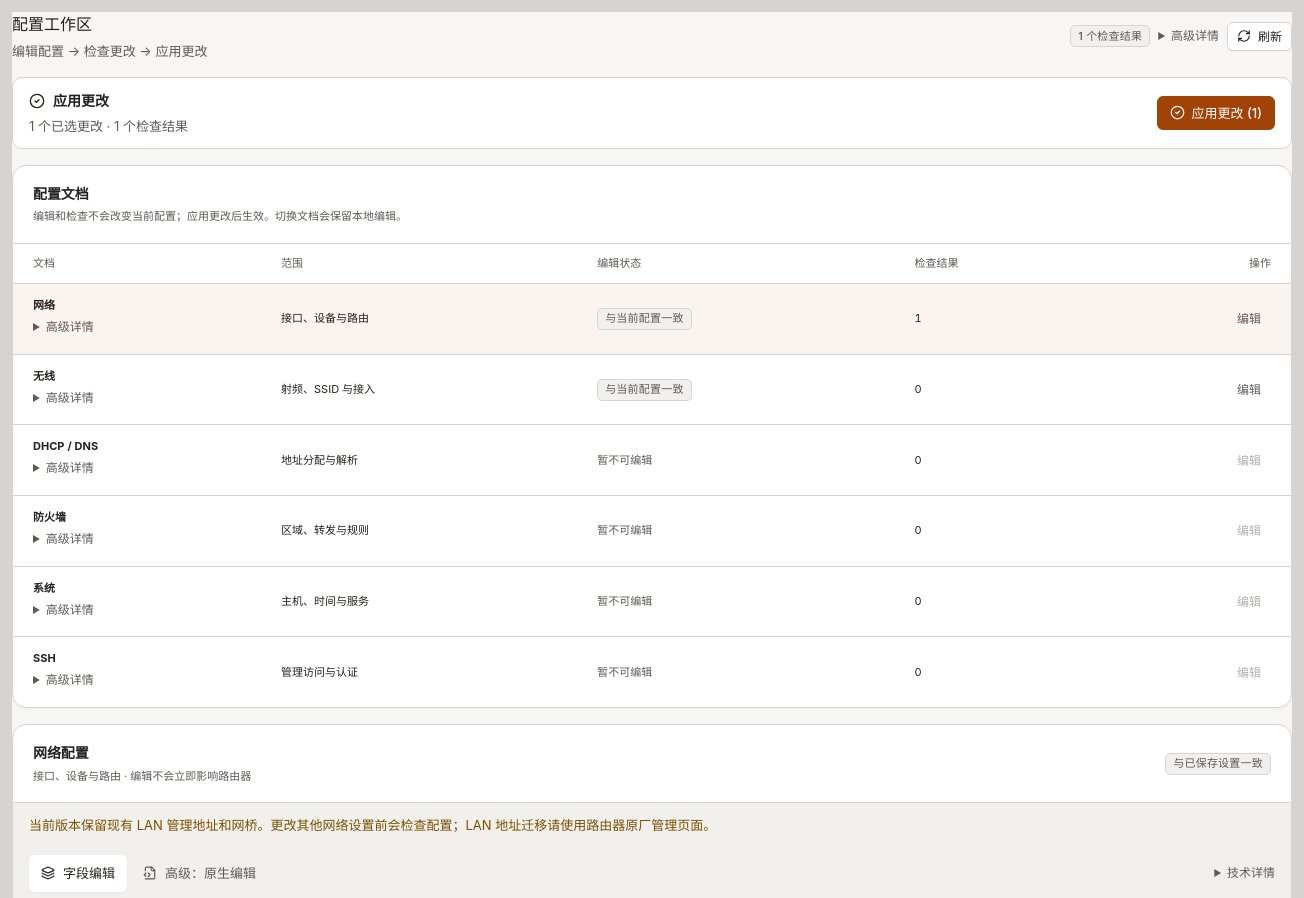
FullControl configuration › commits a low-risk selected draft directly with no confirmation dialog
Click the button with aria-label "应用已选更改 (1)": {"x": 1216, "y": 113} x1=1156 y1=96 x2=1275 y2=130
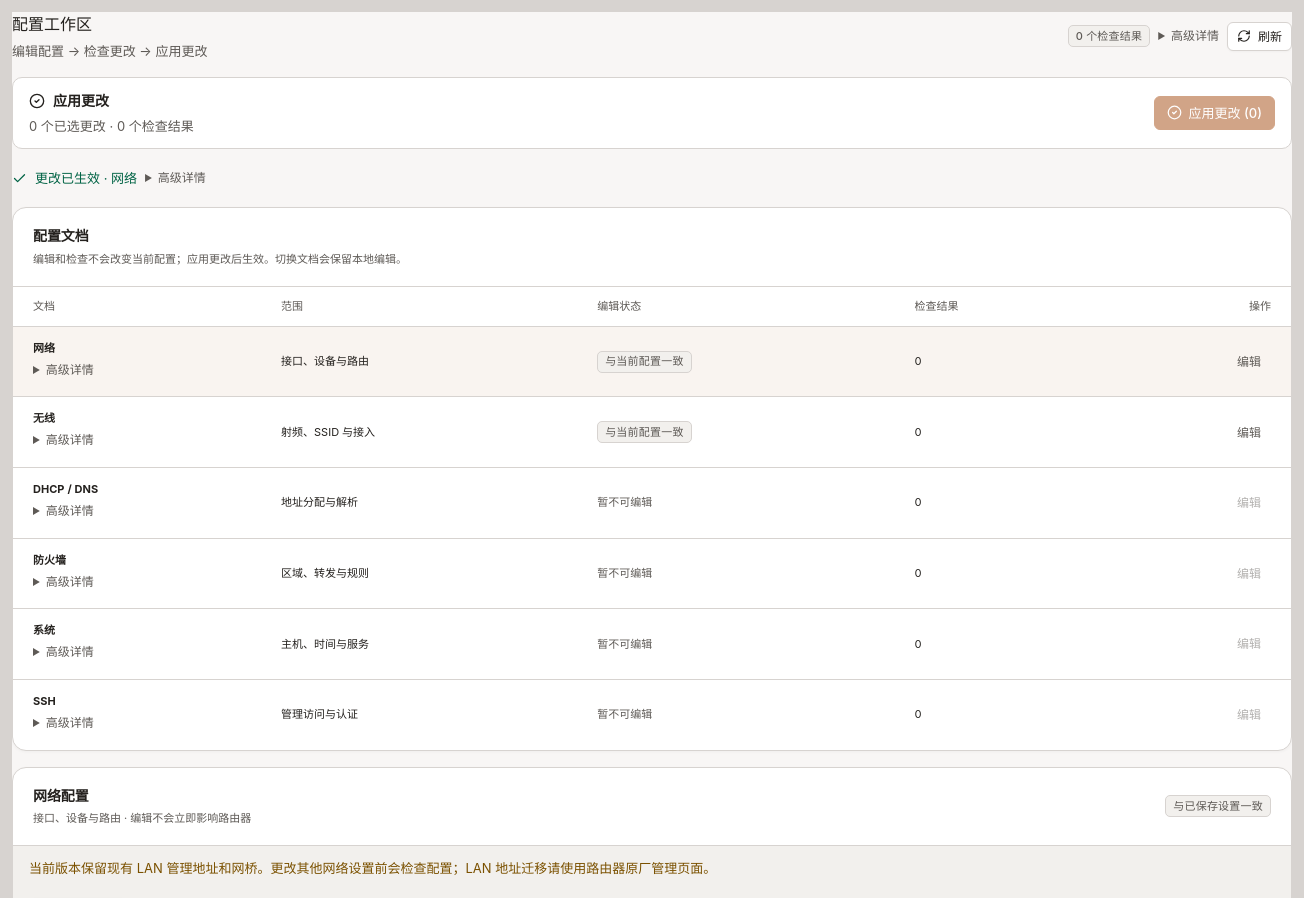
Result: the text "更改已生效 · 网络" is shown at x1=35 y1=168 x2=137 y2=188
